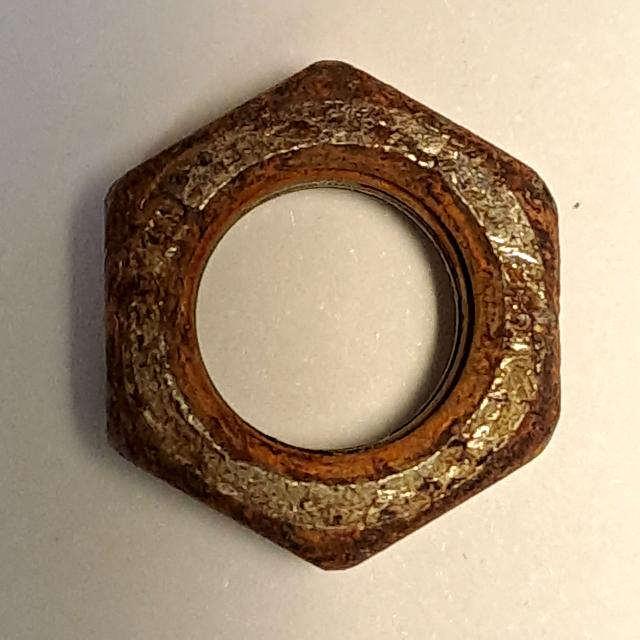Rust: (85, 34, 576, 589)
